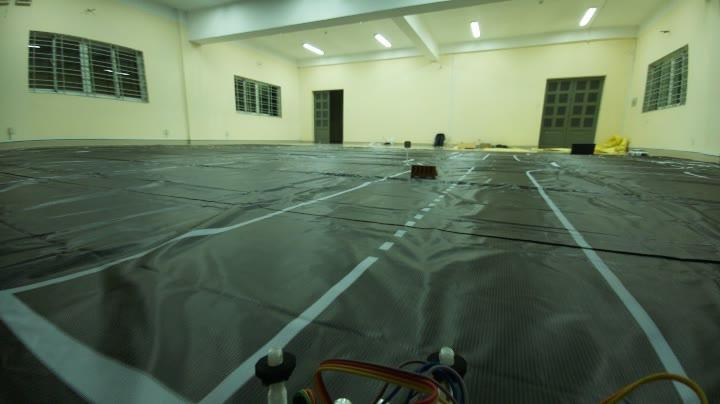roadblock: (408, 162, 443, 185)
